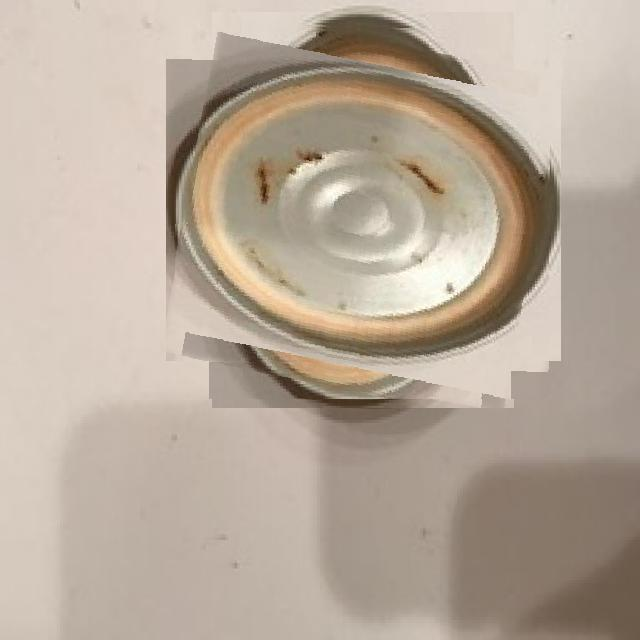recyclable: (175, 21, 551, 399)
